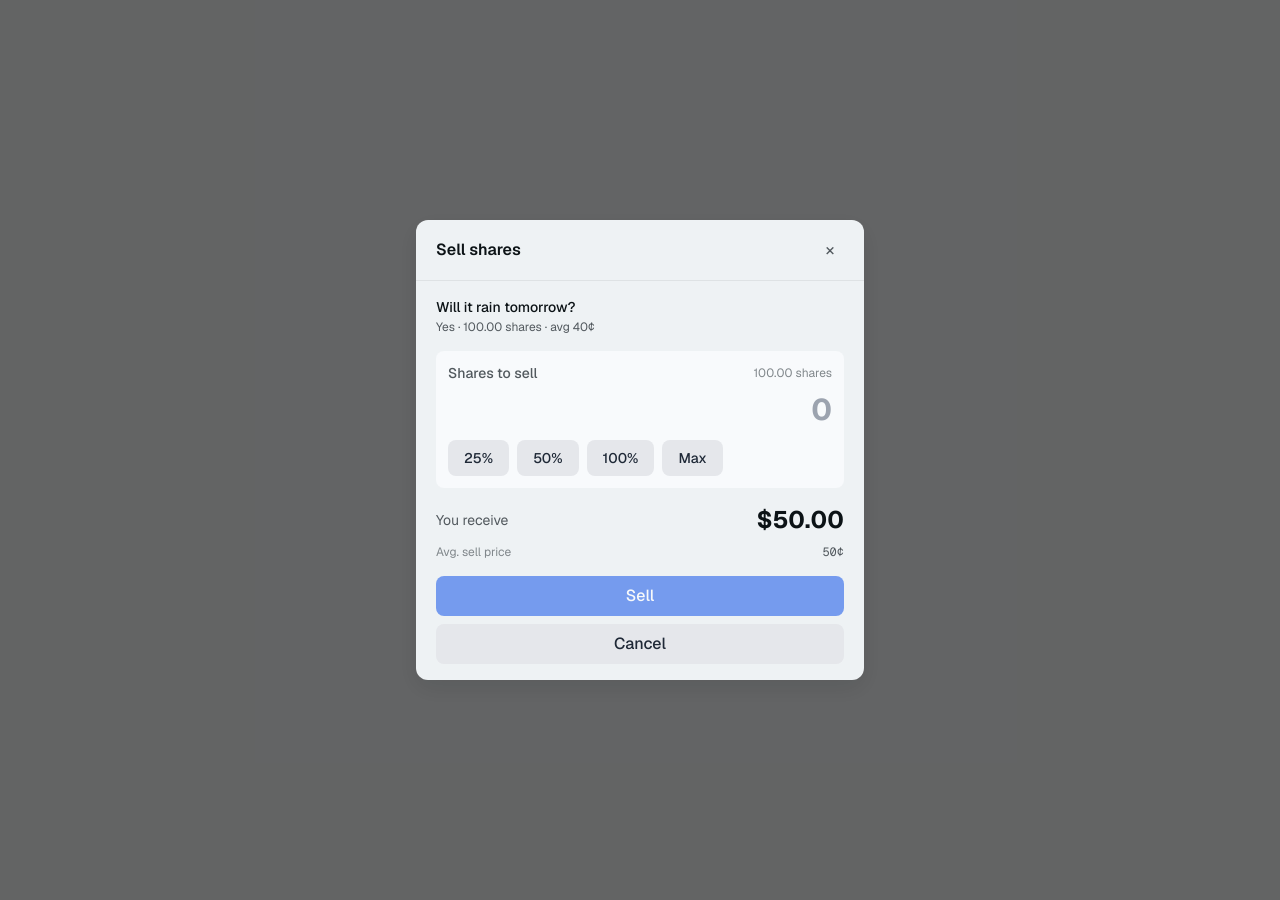
Test case: SellSlip › shows proceeds and realized P/L from the live bid quote
Type "100" into the field labelled "Shares to sell". click: (640, 410)
box: [448,391,832,428]
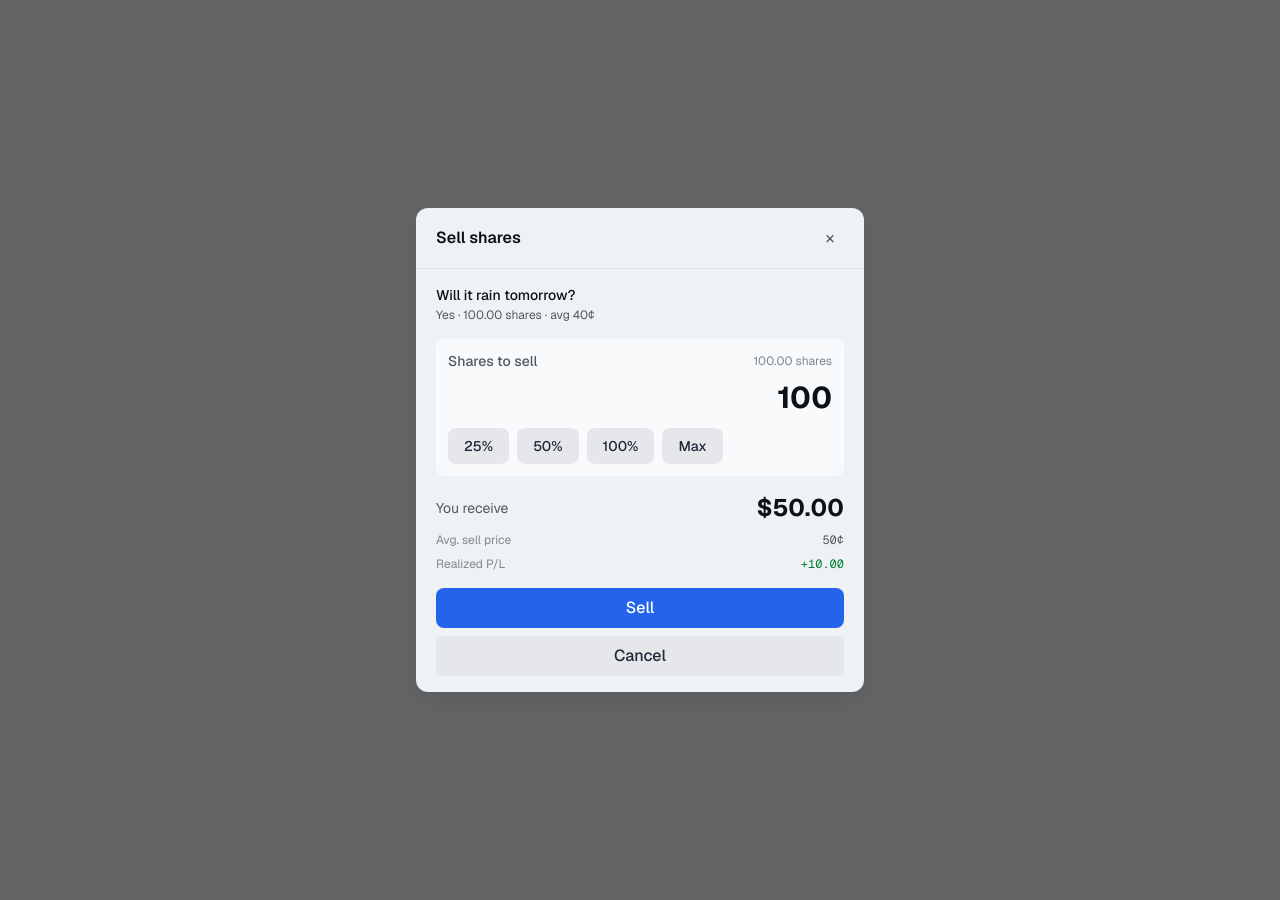
Expected: the text "$50.00" is shown, [756,492,844,524]
Expected: the text "+10.00" is shown, [801,556,844,572]
